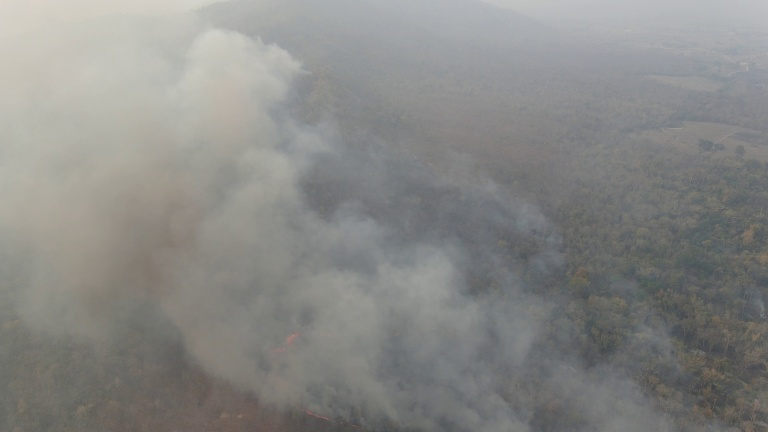fire: (267, 331, 303, 360), (301, 407, 336, 426)
smoke: (36, 28, 318, 355), (195, 185, 503, 432)
